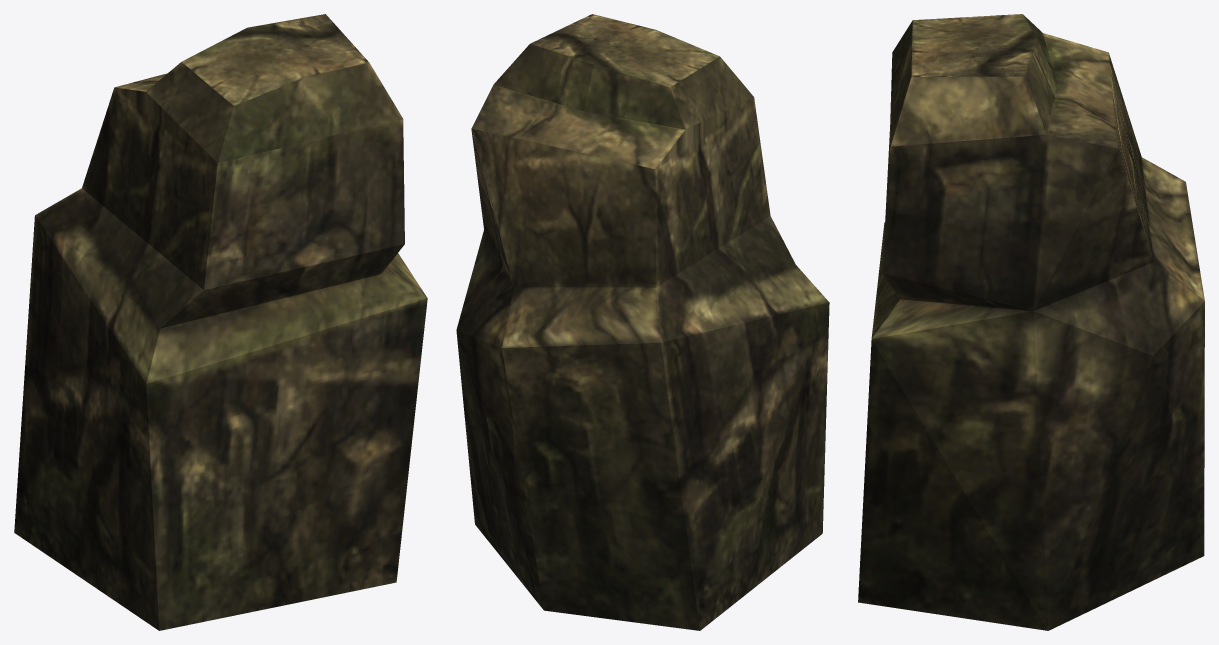
File: ts_yxobj007.FBX
3 renders of one model, left to right at view 1: azimuth 30°, elevation 25°; view 2: azimuth 150°, elevation 25°; view 3: azimuth 270°, elevation 25°, orthographic. The views are drawn at different scales.
Visible parts, largest first — view 1: ts_yxobj007; view 2: ts_yxobj007; view 3: ts_yxobj007.
Part boxes in pixels (bbox=[...]): ts_yxobj007: bbox=[14, 14, 427, 630]; ts_yxobj007: bbox=[456, 14, 829, 630]; ts_yxobj007: bbox=[858, 14, 1204, 630].
Bounding box in the file's own units: 3.53 × 5.84 × 3.46.
